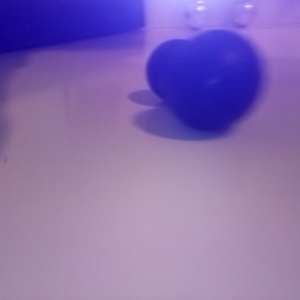alive_ball: (136, 7, 174, 46), (113, 12, 139, 38)
dead_ball: (1, 16, 7, 50)
